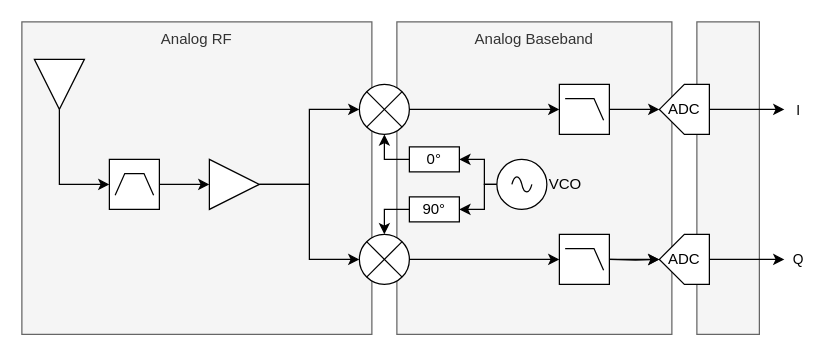
This 825x356 diagram has some shape labels left out. Here are the shapes that lost their labels. From the top down, the centre of each, then its label:
(233,183): LNA
(727,177): Digital Baseband
